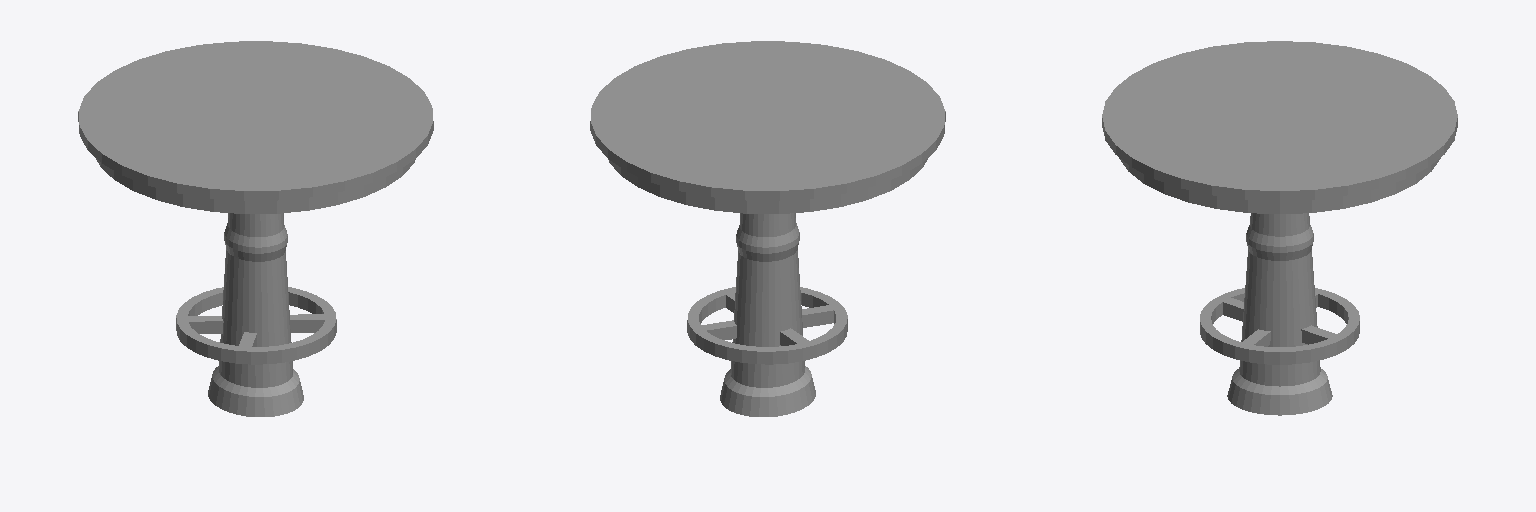
Rendered from table.obj.
3 views of the same model, side by side, from view 1: azimuth 30°, elevation 25°; view 2: azimuth 150°, elevation 25°; view 3: azimuth 270°, elevation 25° (orthographic).
Parts seen in each view (by area): view 1: Cube.001; view 2: Cube.001; view 3: Cube.001.
Part boxes in pixels (x1,y1,x2,y2): Cube.001: (78, 41, 433, 416); Cube.001: (590, 41, 945, 416); Cube.001: (1102, 41, 1457, 415).
Size of the model in its own units: 4.43 by 3.84 by 4.43.